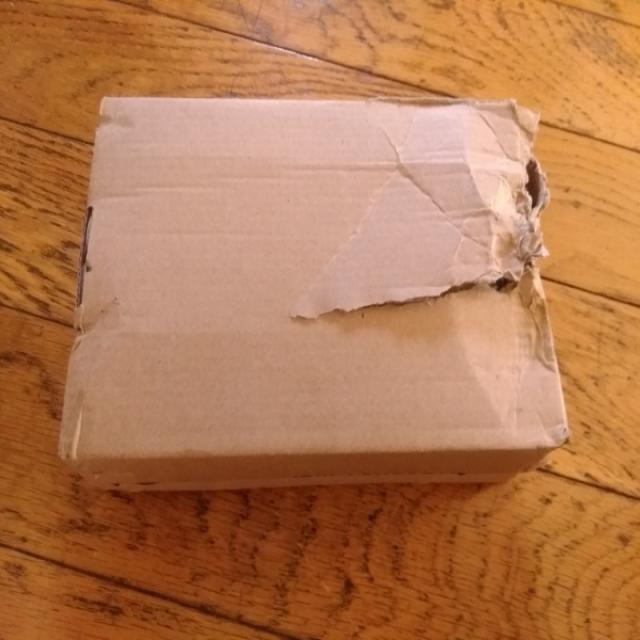hole: (514, 159, 549, 215)
